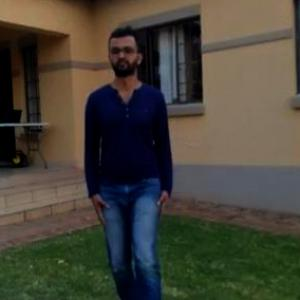follow: (86, 24, 171, 270)
